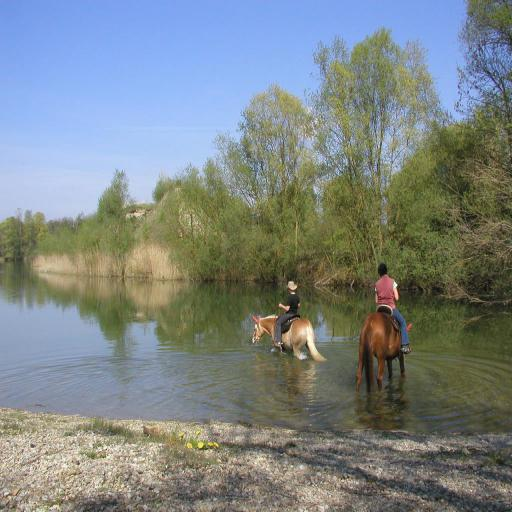horse: (356, 312, 412, 394), (251, 314, 327, 363)
